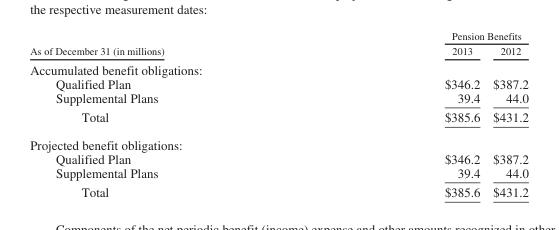table: (29, 29, 527, 199)
table column: (29, 29, 303, 199), (303, 29, 485, 199), (485, 29, 527, 199)
table column header: (29, 29, 527, 59)
table projected row header: (29, 130, 527, 151), (29, 59, 527, 76)
table row: (29, 107, 527, 130), (29, 130, 527, 151), (29, 42, 527, 59), (29, 59, 527, 76), (29, 90, 527, 107), (29, 165, 527, 182), (29, 182, 527, 199), (29, 76, 527, 90), (29, 151, 527, 165), (29, 29, 527, 42)
table spanning cell: (29, 29, 303, 59), (303, 29, 527, 42)
